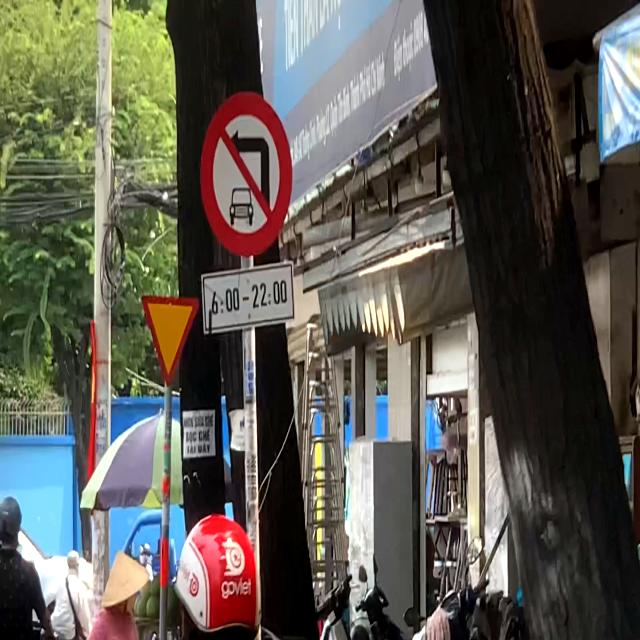P.103c: (200, 94, 292, 257)
W.208: (140, 294, 202, 388)
